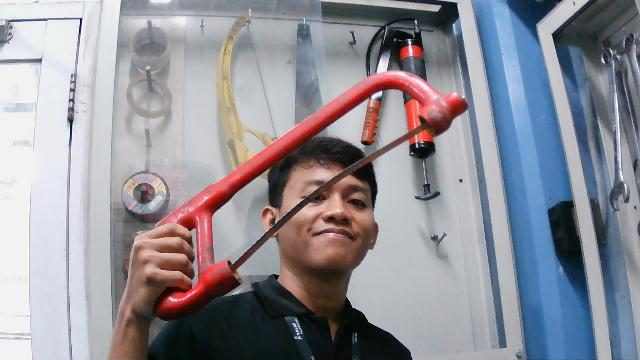gergaji_besi: (117, 67, 471, 323)
